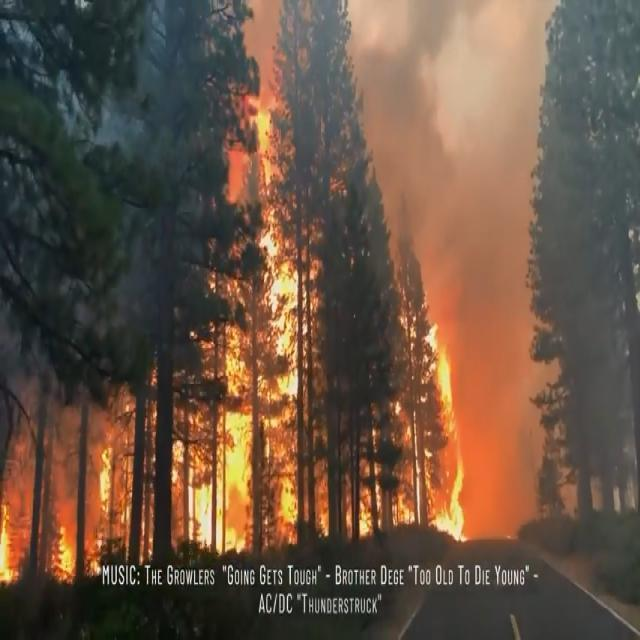Fire: (0, 88, 469, 547)
